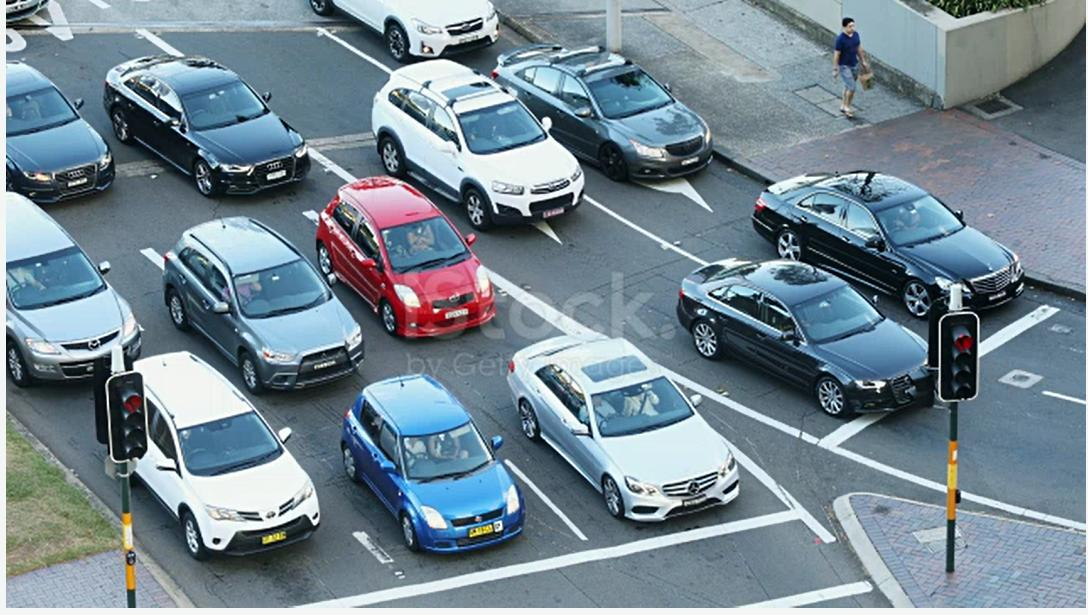car: (481, 321, 770, 548), (753, 143, 1047, 331), (679, 249, 962, 427), (357, 53, 588, 250), (161, 203, 370, 414), (309, 157, 510, 375), (123, 351, 314, 574), (95, 35, 337, 203), (341, 363, 520, 590), (507, 35, 731, 194), (0, 213, 139, 387), (0, 45, 109, 231), (292, 0, 525, 67)
